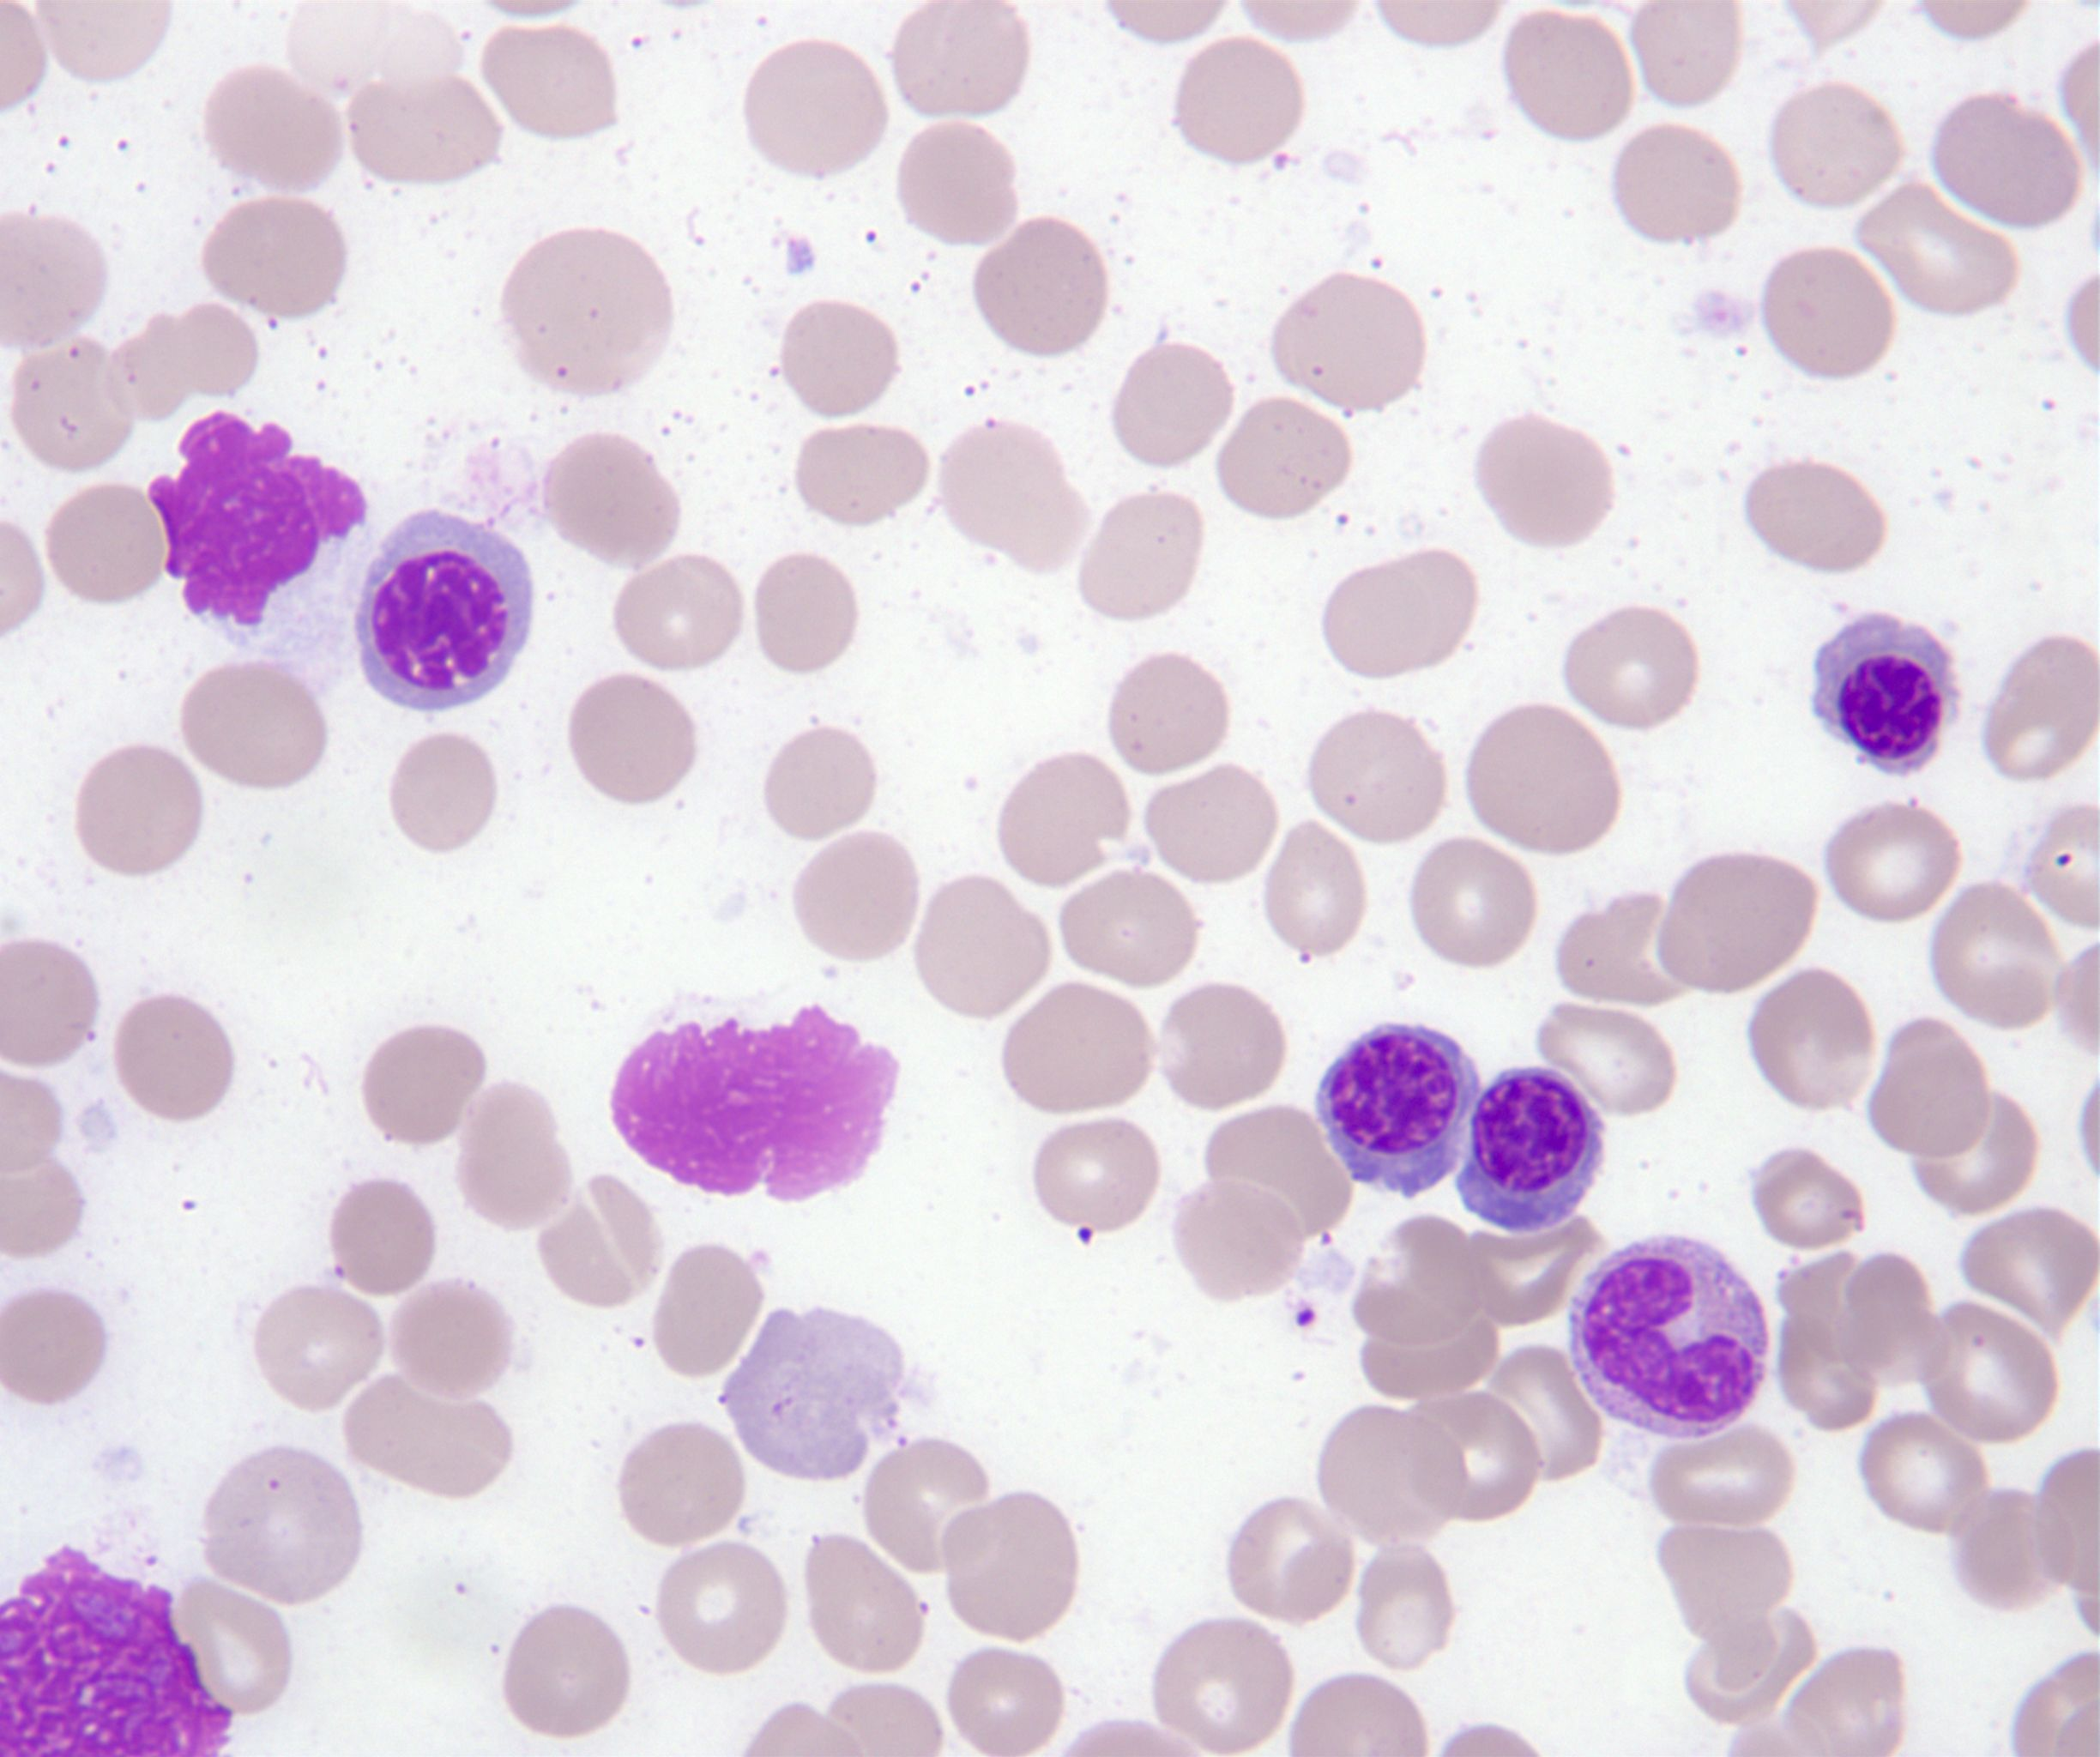24: (356, 513, 528, 712), (1317, 1028, 1481, 1199), (1456, 1071, 1599, 1230), (1814, 616, 1952, 776)
5: (1568, 1235, 1769, 1439)
x: (612, 1008, 895, 1202), (5, 1546, 230, 1757), (147, 410, 365, 623)
